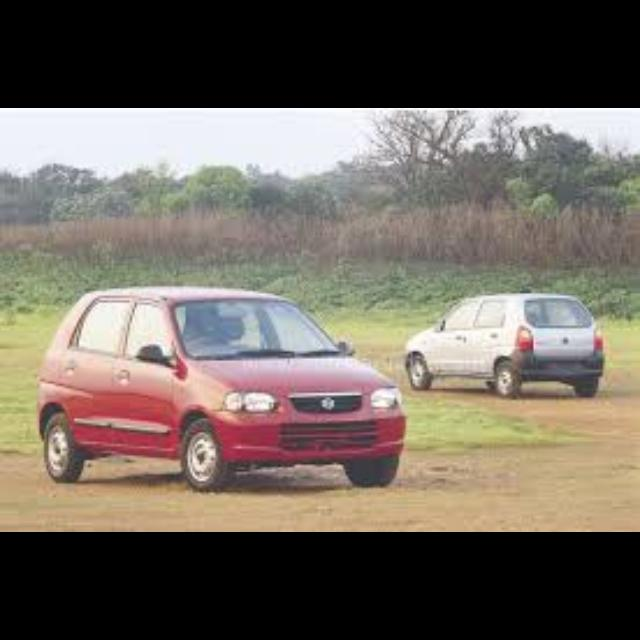vehicles: (31, 282, 404, 493), (406, 291, 598, 395)
